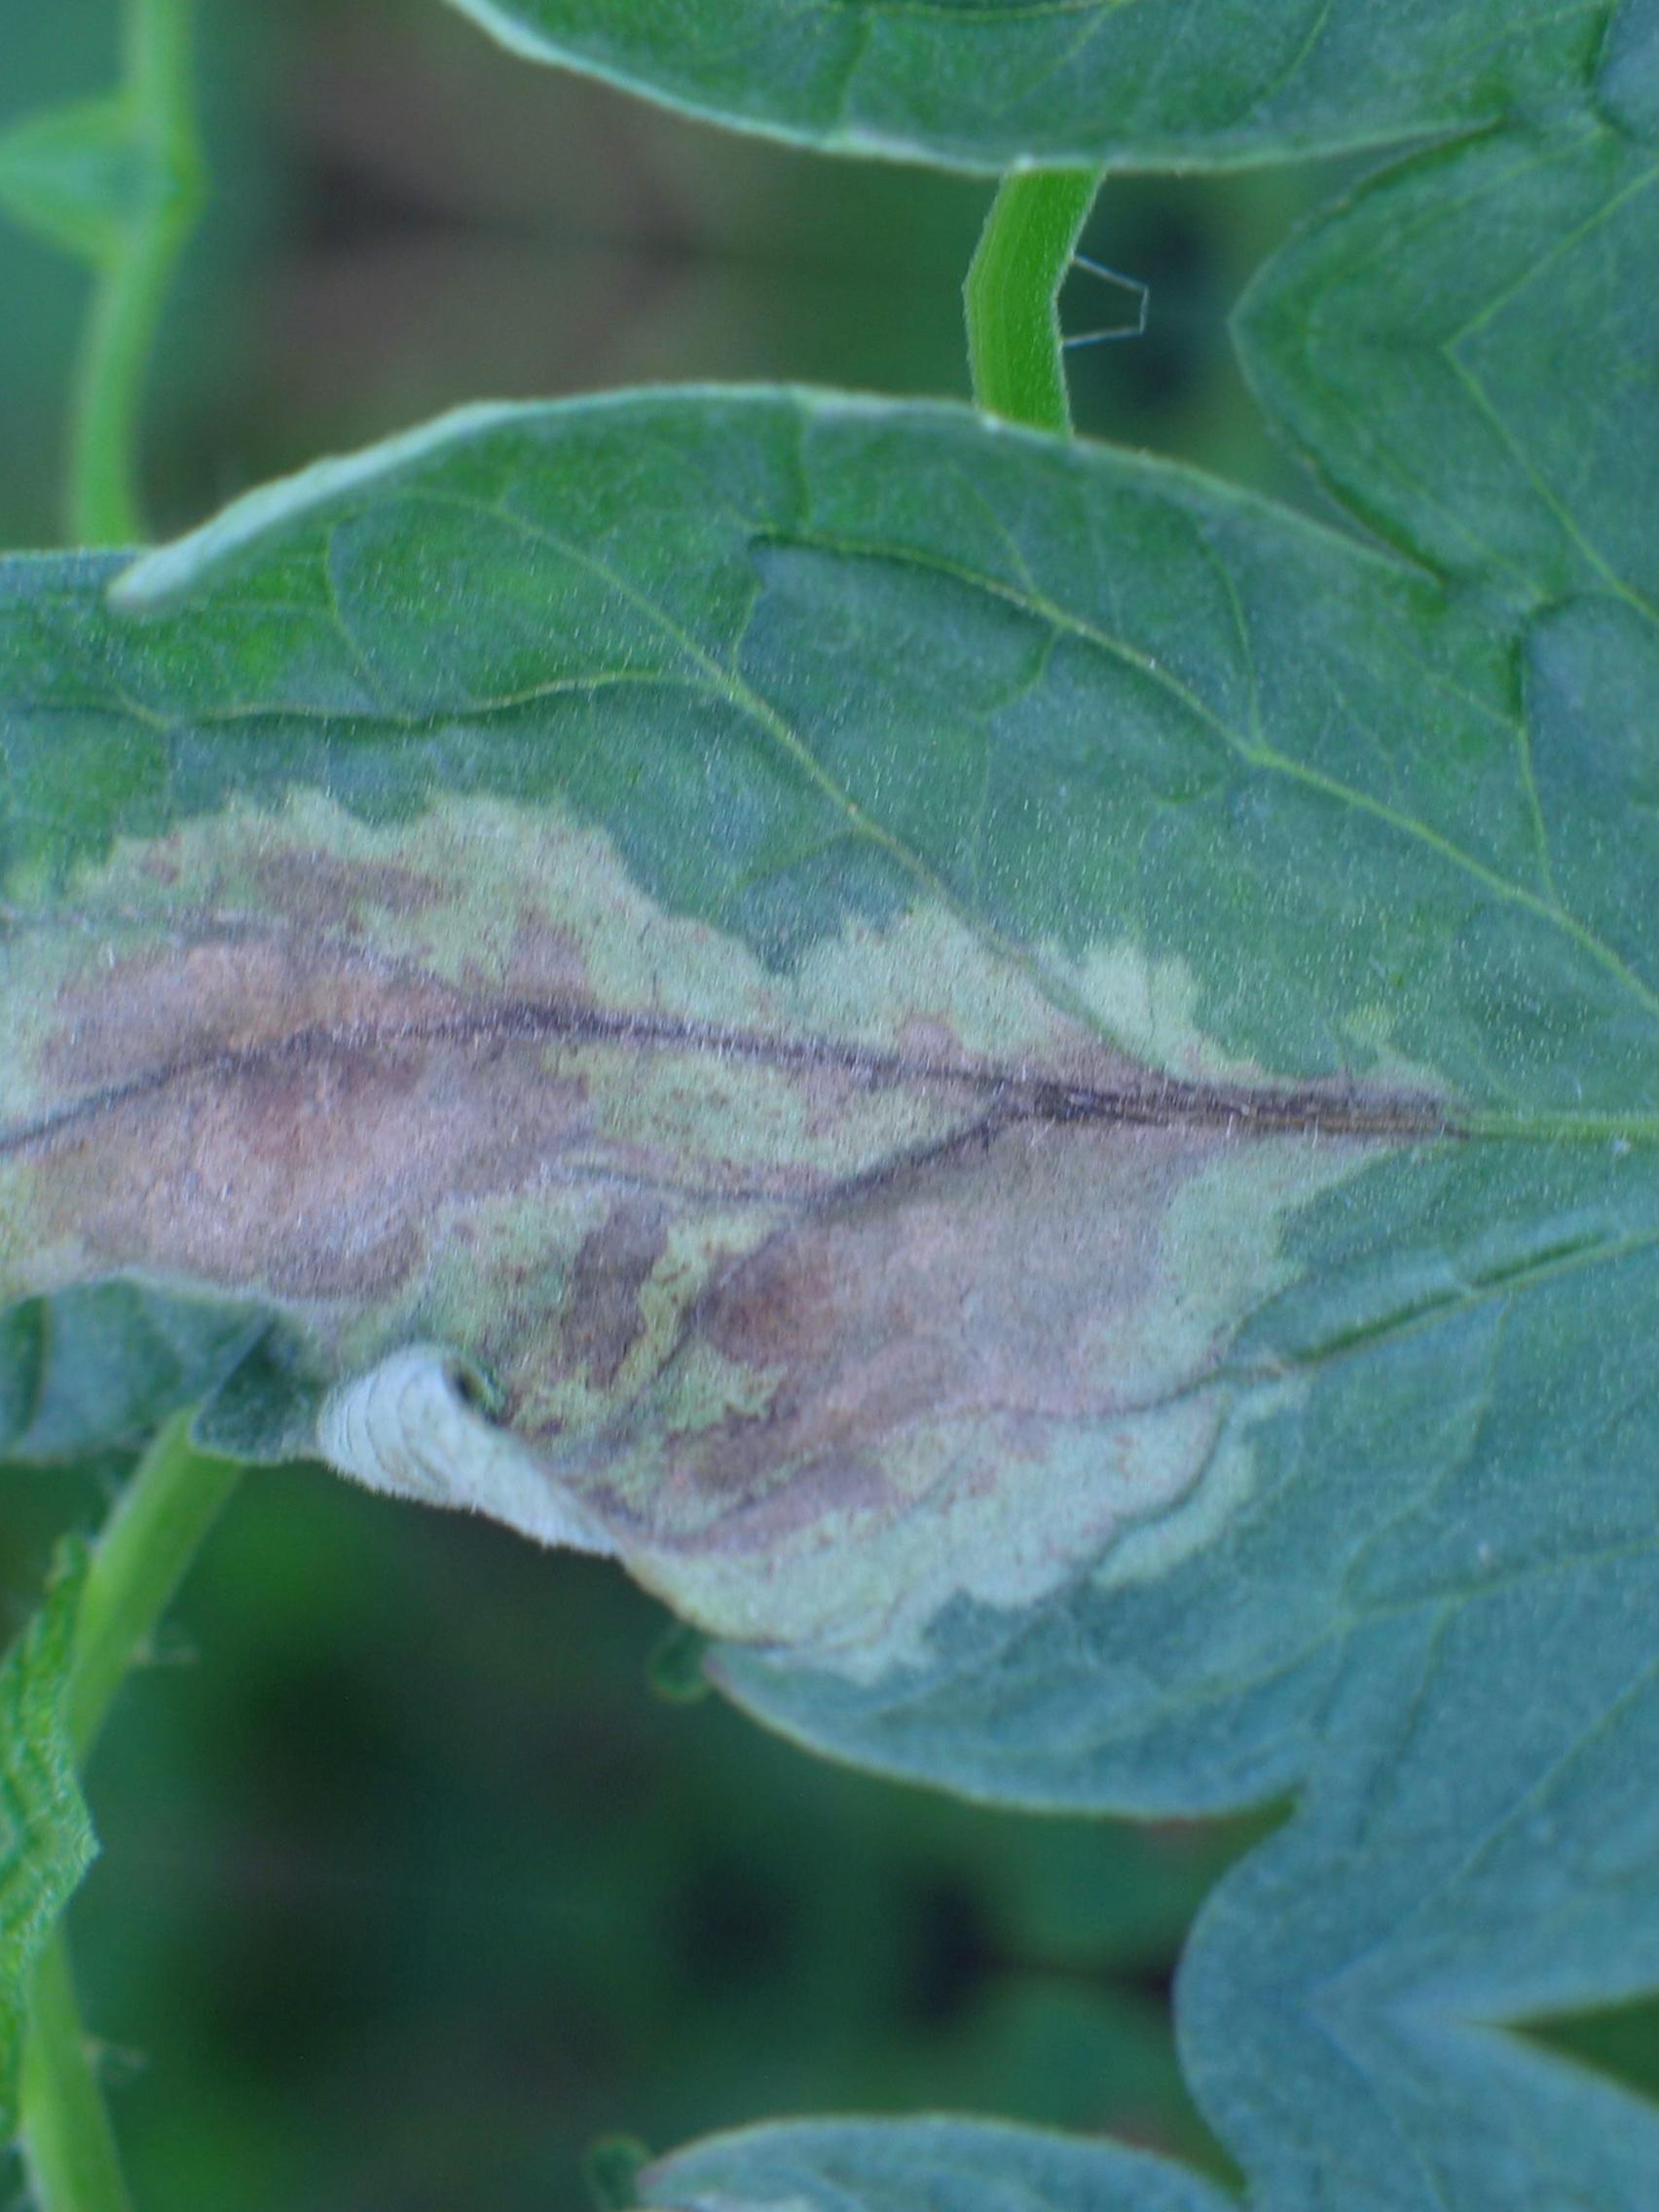Tomato leaf late blight: (0, 146, 1659, 2031)
